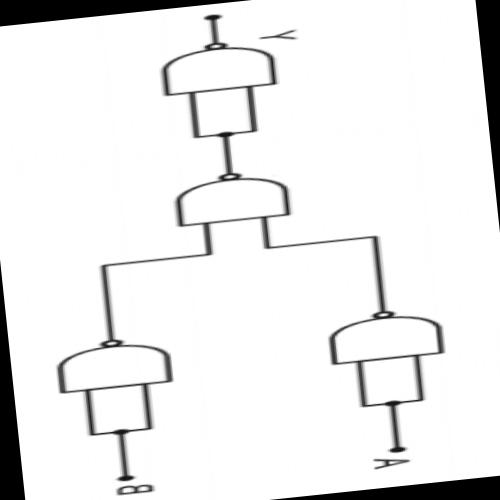nand: (318, 300, 454, 368), (150, 32, 287, 99), (166, 162, 298, 229), (48, 328, 179, 395)
